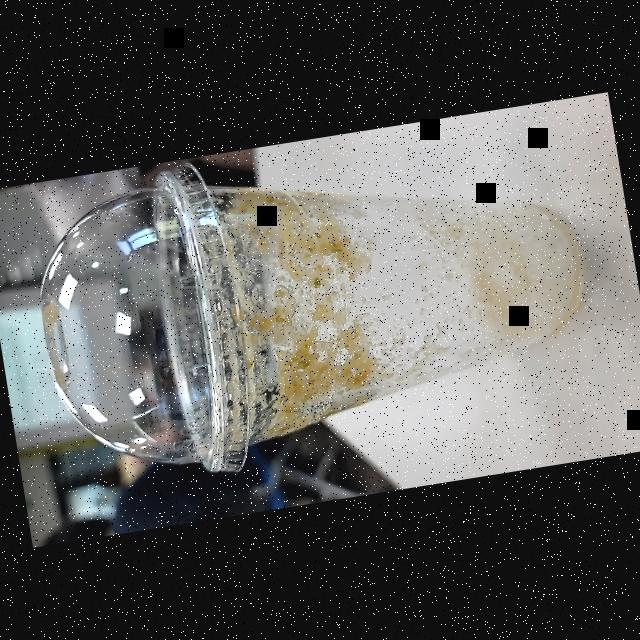plastic_cup: (17, 103, 609, 501)
plastic_cup_lid: (18, 162, 264, 498)
